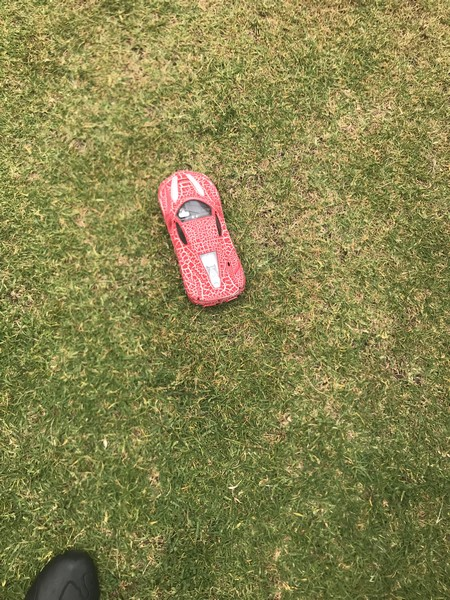RC: (155, 169, 249, 308)
